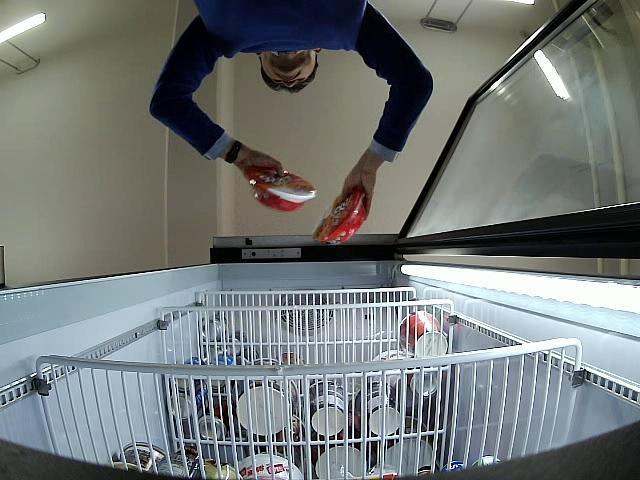10_wangTtukkeong: (245, 168, 318, 212), (312, 186, 367, 244)
